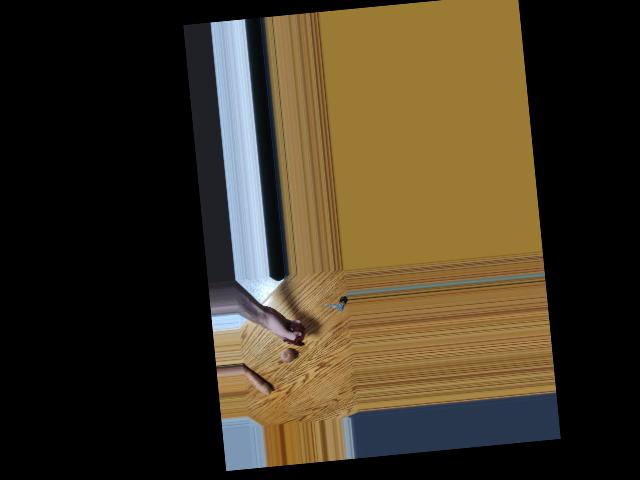onion: (279, 346, 295, 364)
